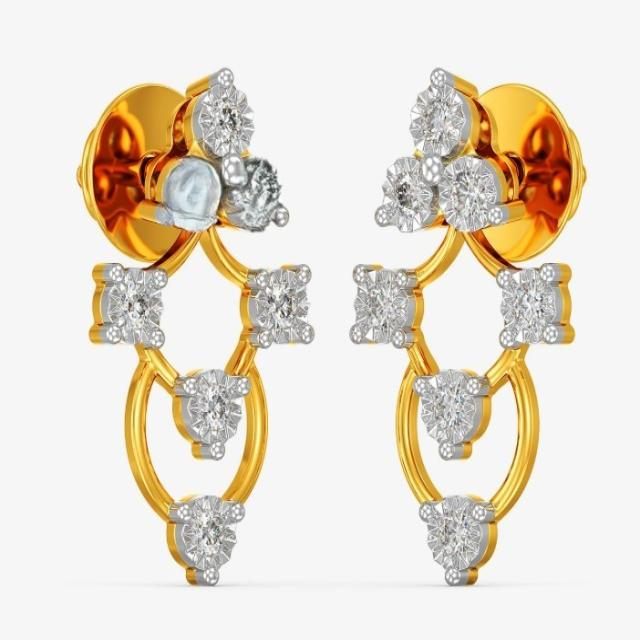missing gem: (167, 163, 225, 235), (229, 156, 280, 230)
